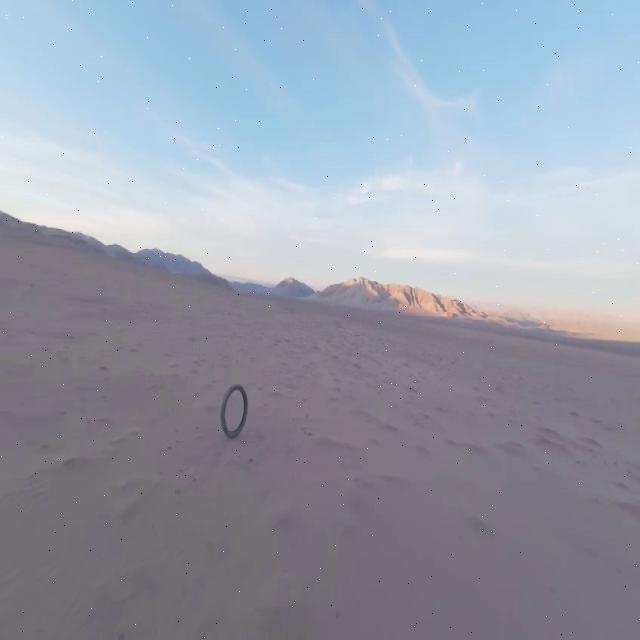Tire: (221, 384, 248, 438)
